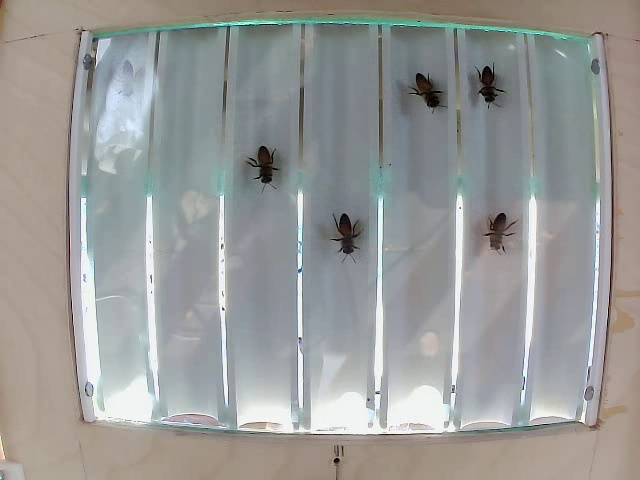bee: (244, 143, 281, 178), (477, 205, 505, 247), (474, 57, 496, 109), (415, 71, 441, 110), (337, 218, 355, 260)
